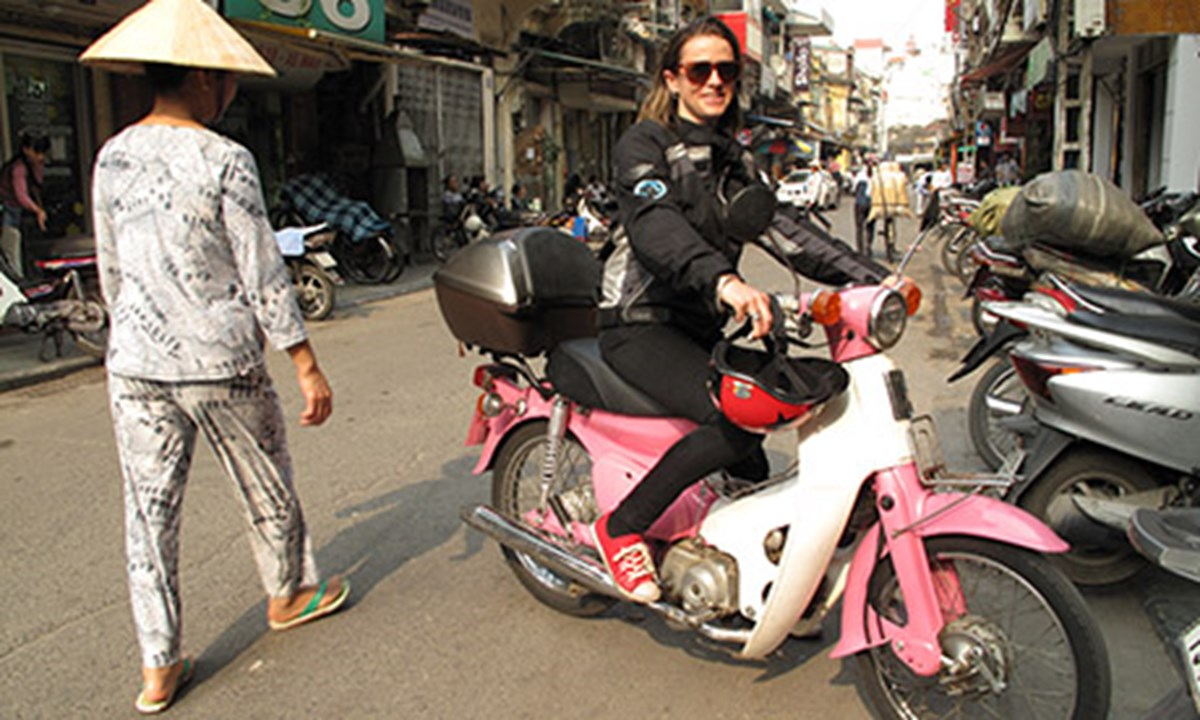motorbike: (405, 206, 1134, 720)
